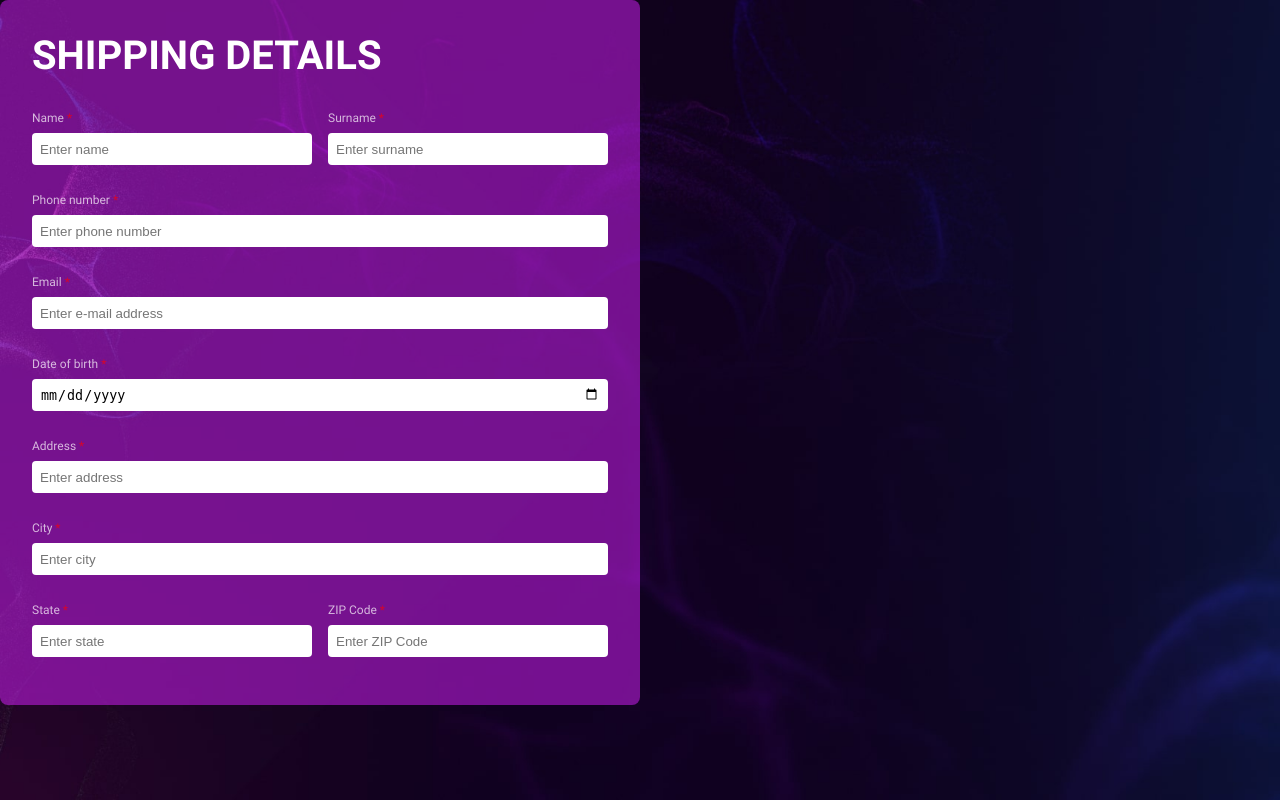
PurchaseForm › Should display validation error for date of birth
The width and height of the screenshot is (1280, 800).
Type "2050-09-01" into the date field with test id "PurchaseForm__DateOfBirthInput". click: (320, 395)
box: x1=32 y1=379 x2=608 y2=411
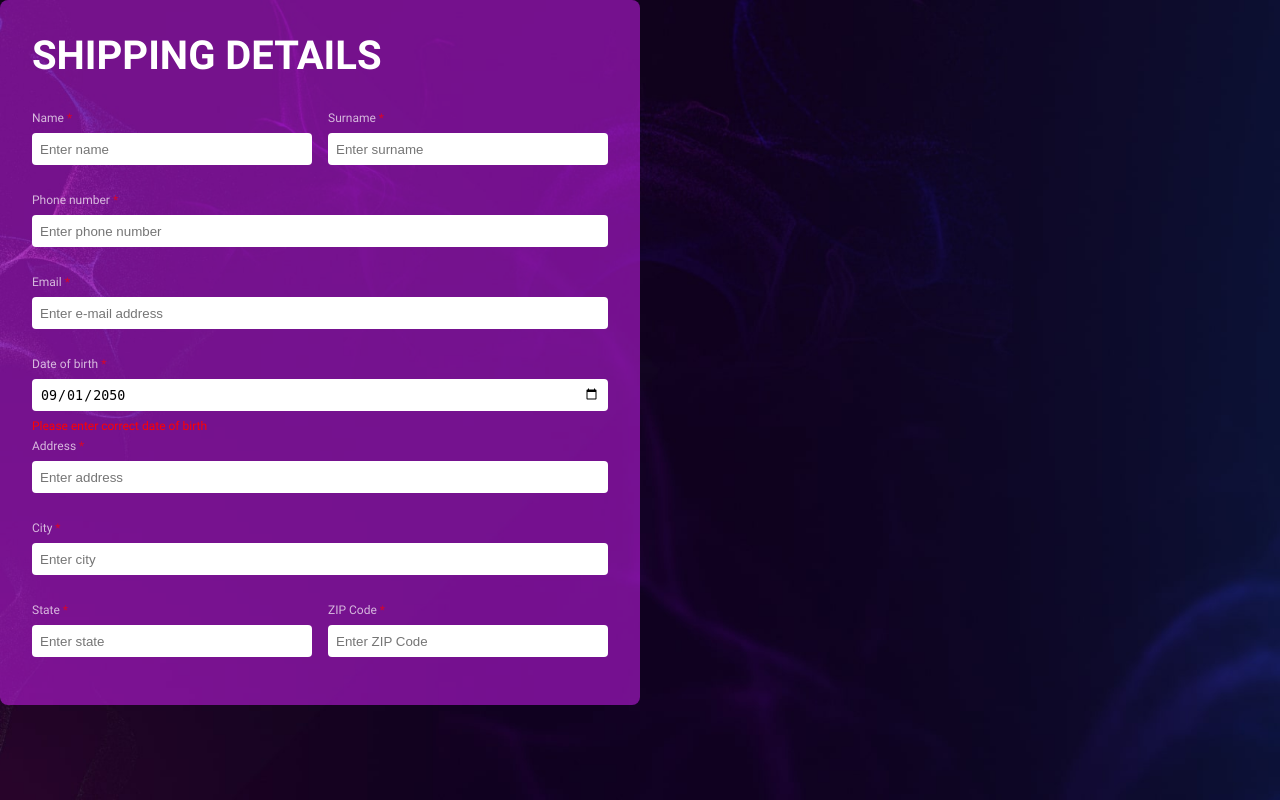
Expected: the text "Please enter correct date of birth" is shown, x1=32 y1=419 x2=207 y2=427
